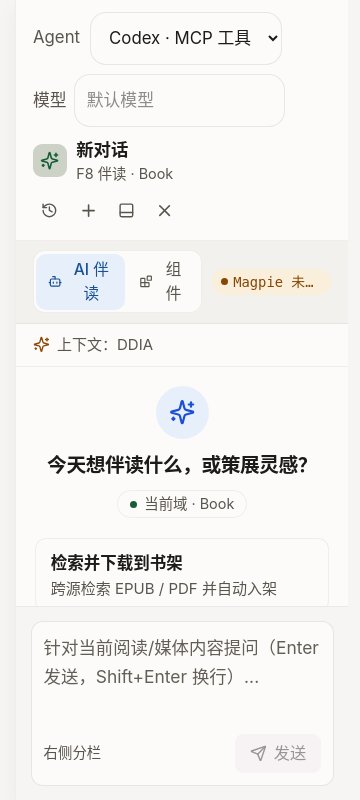
Test case: AiWorkbench & CompanionDock real capability RPC › sends ai.agent.v1 in CompanionDock and surfaces real error on failure
The image size is (360, 800).
In the text box named "伴读栏提问输入": {"x": 182, "y": 677} [44,634,321,719], type "解释这一段"
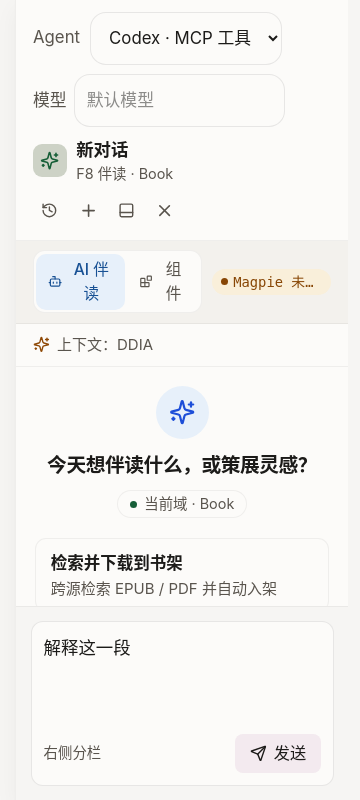
Press Enter in the text box named "伴读栏提问输入", box [44,634,321,719]
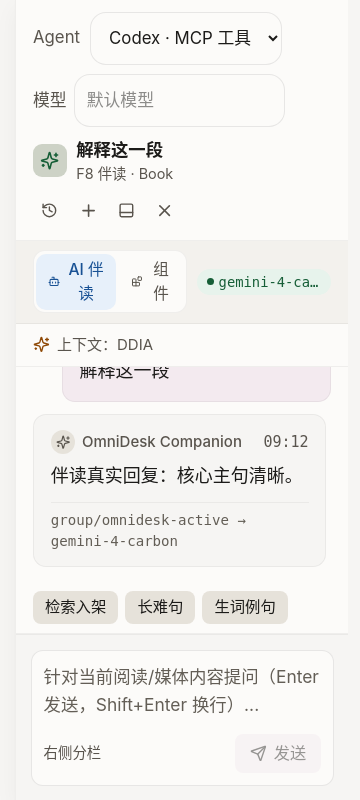
Expected: the text "伴读真实回复：核心主句清晰。" is shown, [51,461,309,492]
In the text box named "伴读栏提问输入": {"x": 182, "y": 691} [44,663,321,719], type "trigger error"
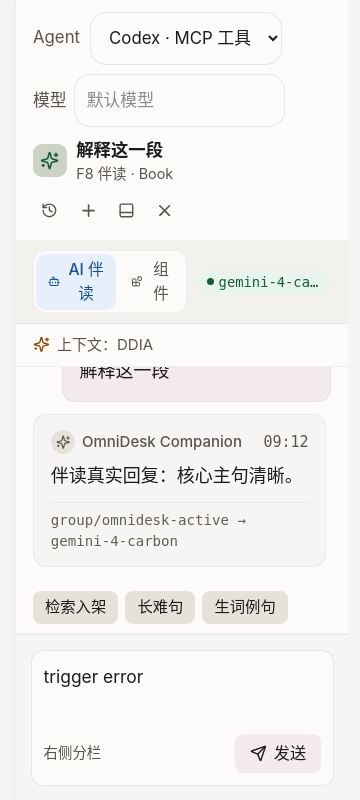
Press Enter in the text box named "伴读栏提问输入", box [44,663,321,719]
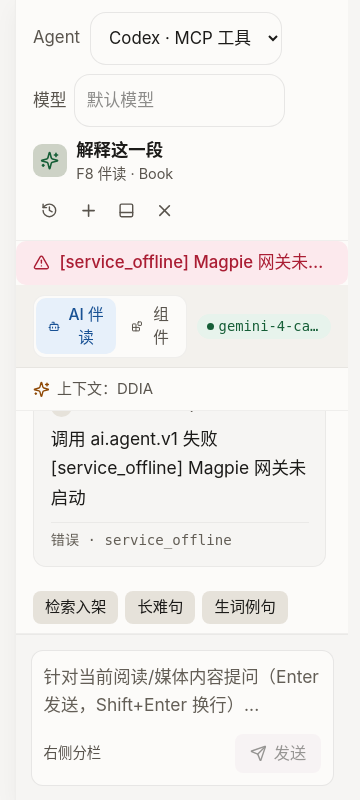
Expected: the message with test id "dock-error-banner" reads "[service_offline] Magpie 网关未启动", [59,252,342,272]
